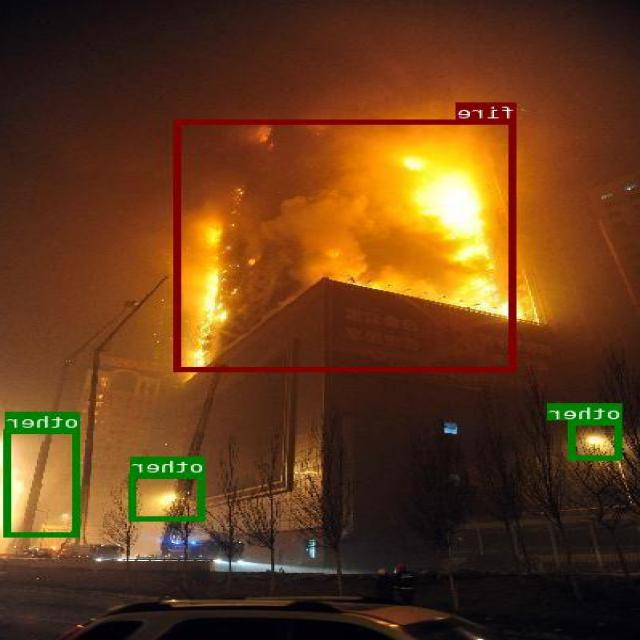fire: (176, 119, 517, 371)
other: (5, 428, 81, 536), (131, 473, 206, 520), (570, 420, 623, 459)
